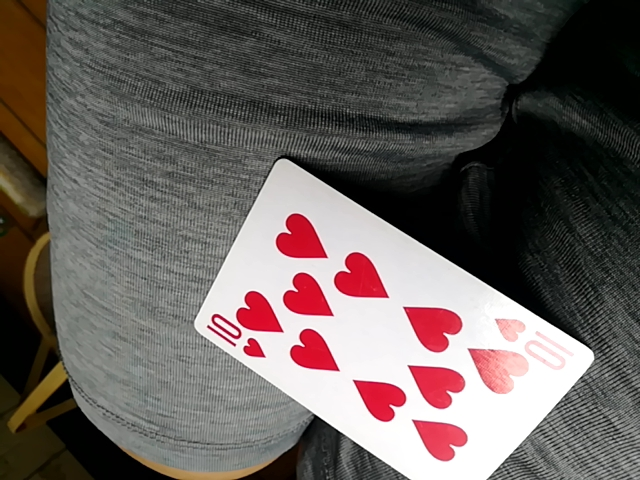hx 10: (193, 154, 592, 479)
